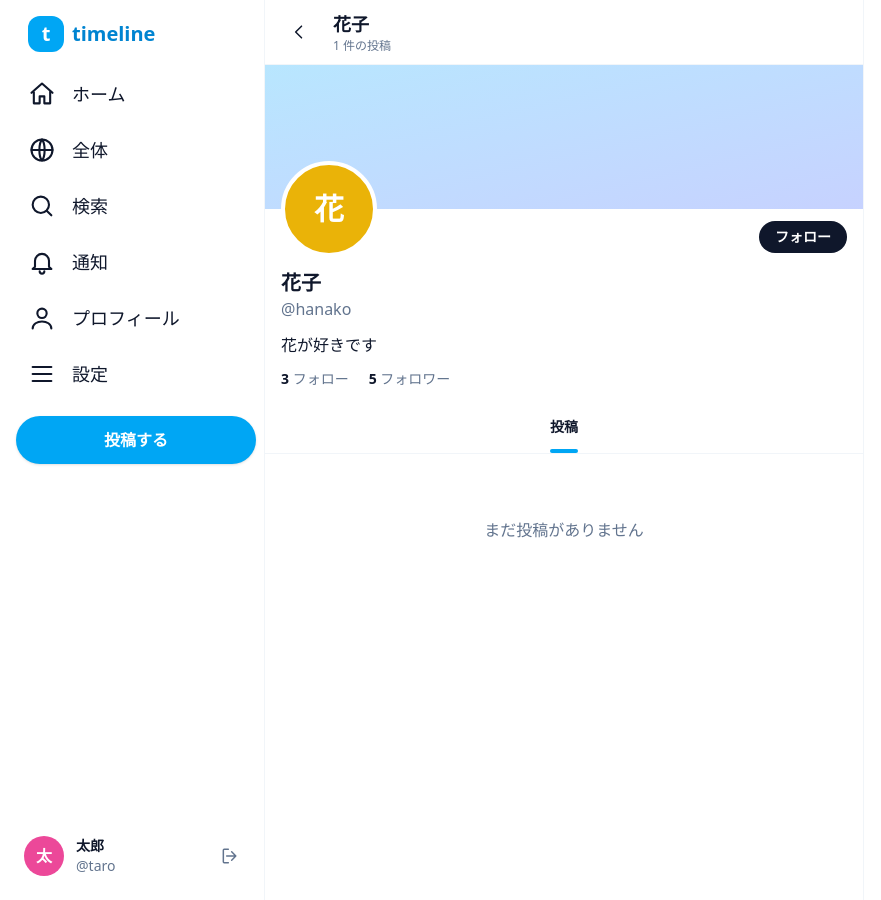
Test: フォロー › 押すとフォローし、取り直したプロフィールで表示が変わる
Click the button with aria-label "@hanako をフォロー". click: (803, 237)
box: 759,221 -> 847,253
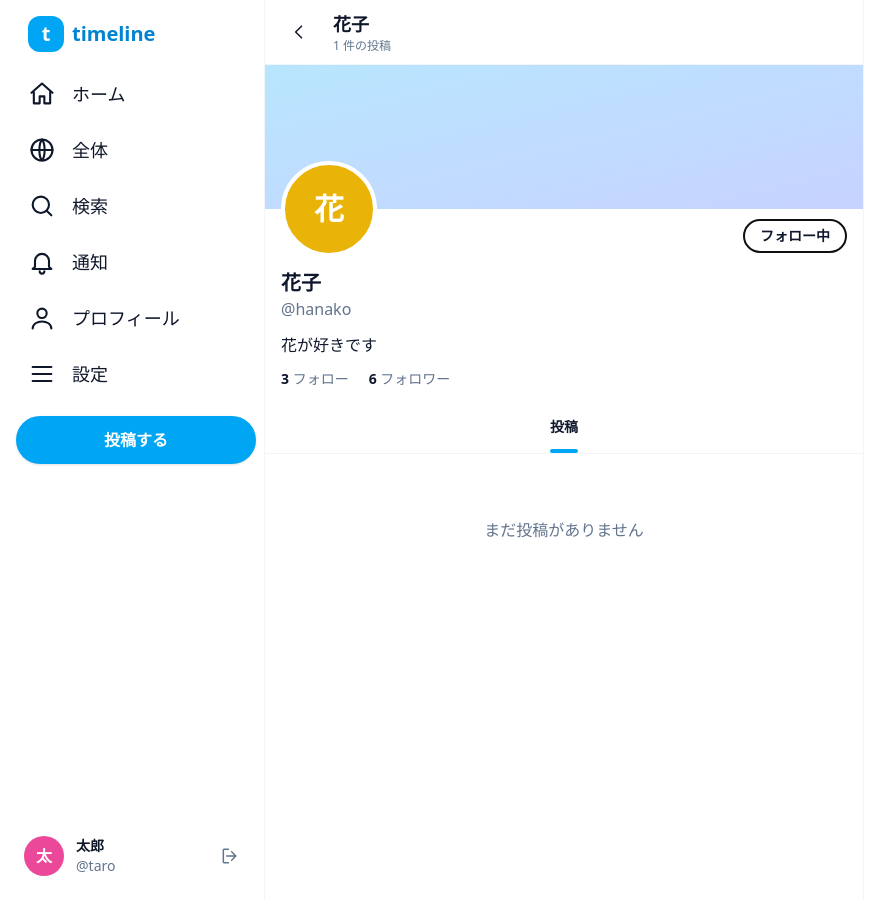
Expected: the button with aria-label "@hanako のフォローを解除" is shown
Expected: the link "6 フォロワー" is shown, 369,369 -> 450,389
Click the button with aria-label "@hanako のフォローを解除". click: (795, 236)
box: 743,219 -> 847,253
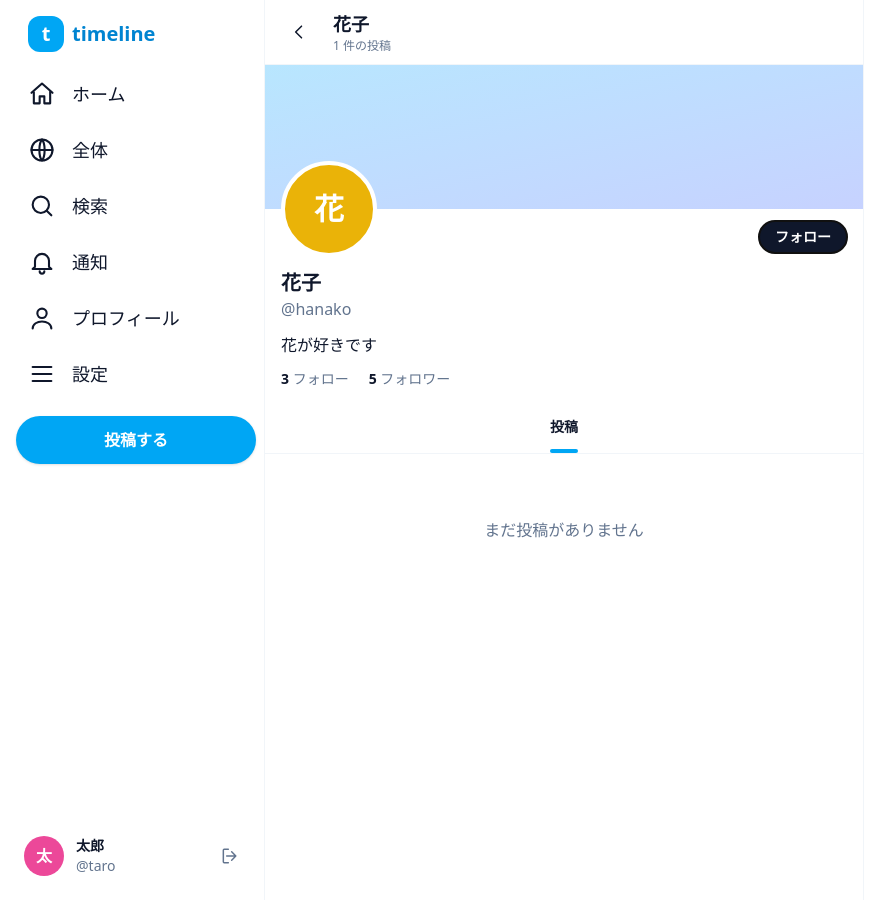
Expected: the button with aria-label "@hanako をフォロー" is shown, 759,221 -> 847,253
